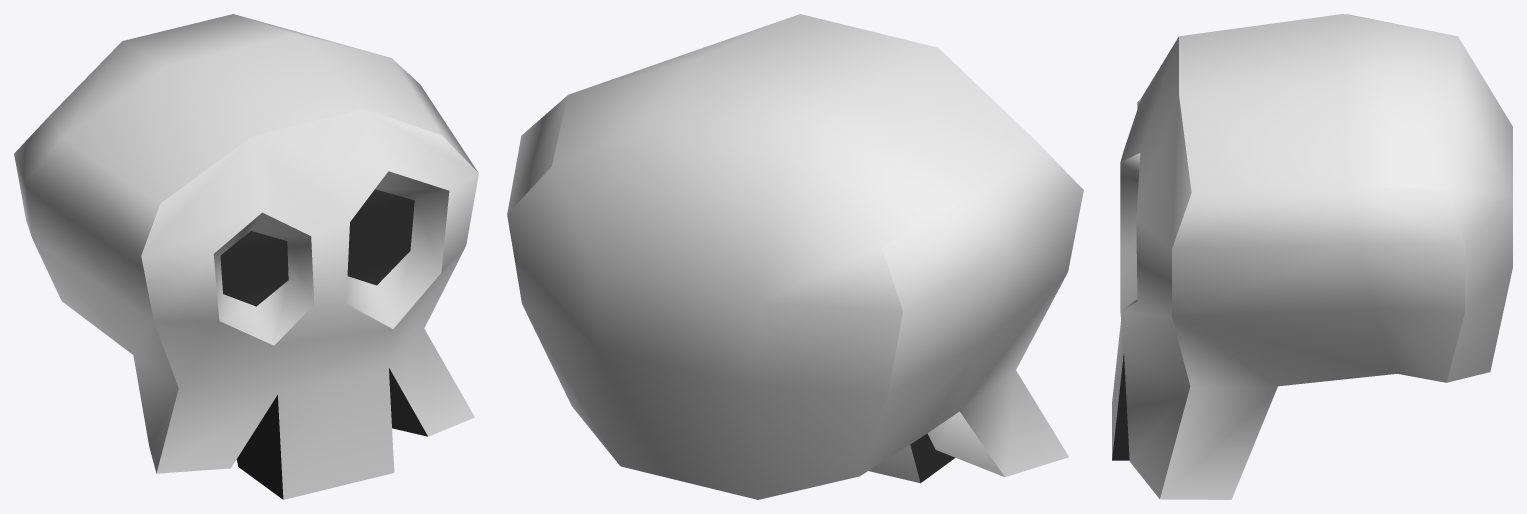
The model's file is Skull.fbx.
The picture shows the model from 3 angles, left to right: view 1: azimuth 30°, elevation 25°; view 2: azimuth 150°, elevation 25°; view 3: azimuth 270°, elevation 25°; orthographic projection. The views are drawn at different scales.
Visible parts, largest first — view 1: Skull; view 2: Skull; view 3: Skull.
Boxes of the visible parts, <box> form: Skull: <box>14,14,478,499</box>; Skull: <box>507,14,1083,499</box>; Skull: <box>1112,14,1512,499</box>.
Bounding box in the file's own units: 77.64 × 67.13 × 63.57.
1 material, 1 textured.
